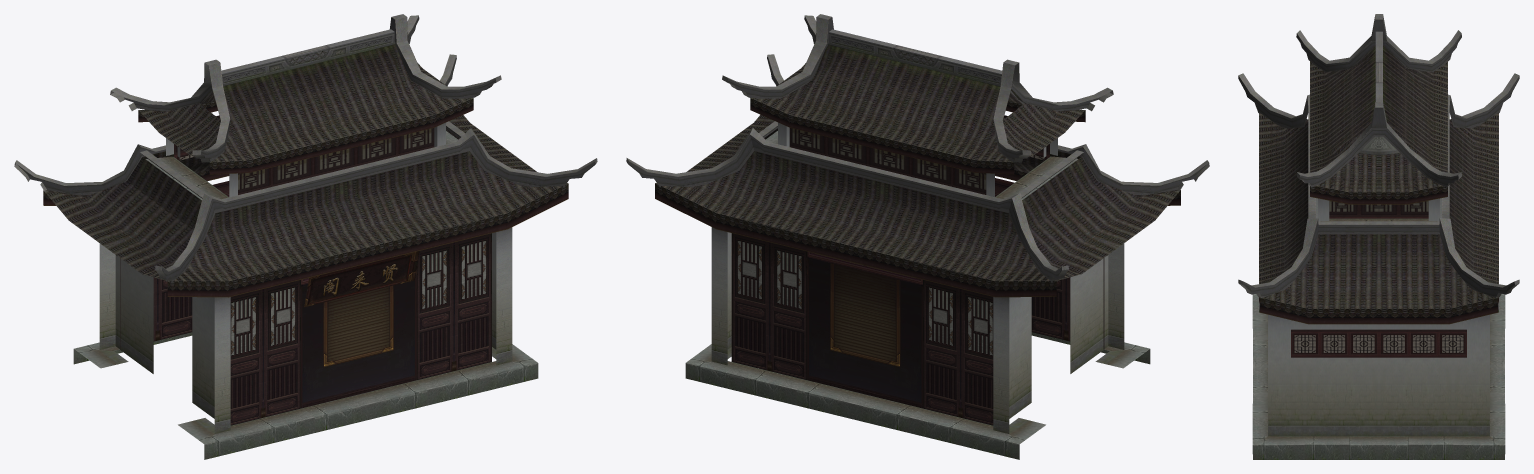
Rendered from zc_suzhou_zhujian01.FBX.
3 renders of one model, left to right at view 1: azimuth 30°, elevation 25°; view 2: azimuth 150°, elevation 25°; view 3: azimuth 270°, elevation 25°, orthographic. The views are drawn at different scales.
Parts seen in each view (by area): view 1: zc_suzhou_zhujian01; view 2: zc_suzhou_zhujian01; view 3: zc_suzhou_zhujian01.
Boxes of the visible parts, box(x1,y1,x2,y2) form: zc_suzhou_zhujian01: box(14, 14, 597, 459); zc_suzhou_zhujian01: box(626, 14, 1209, 459); zc_suzhou_zhujian01: box(1238, 14, 1519, 459).
Size of the model in its own units: 1310 by 938 by 747.
1 material, 1 textured.
